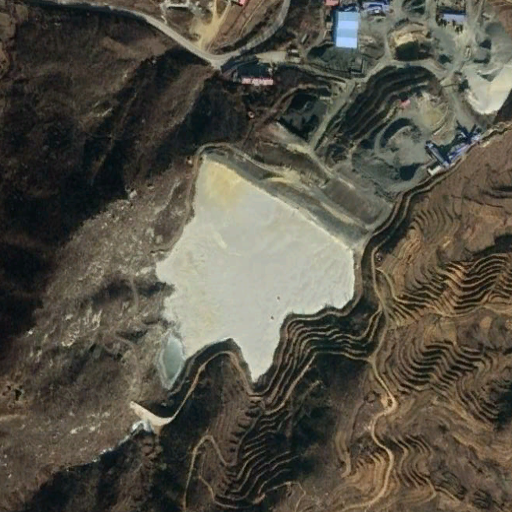tp: (154, 130, 394, 396)
